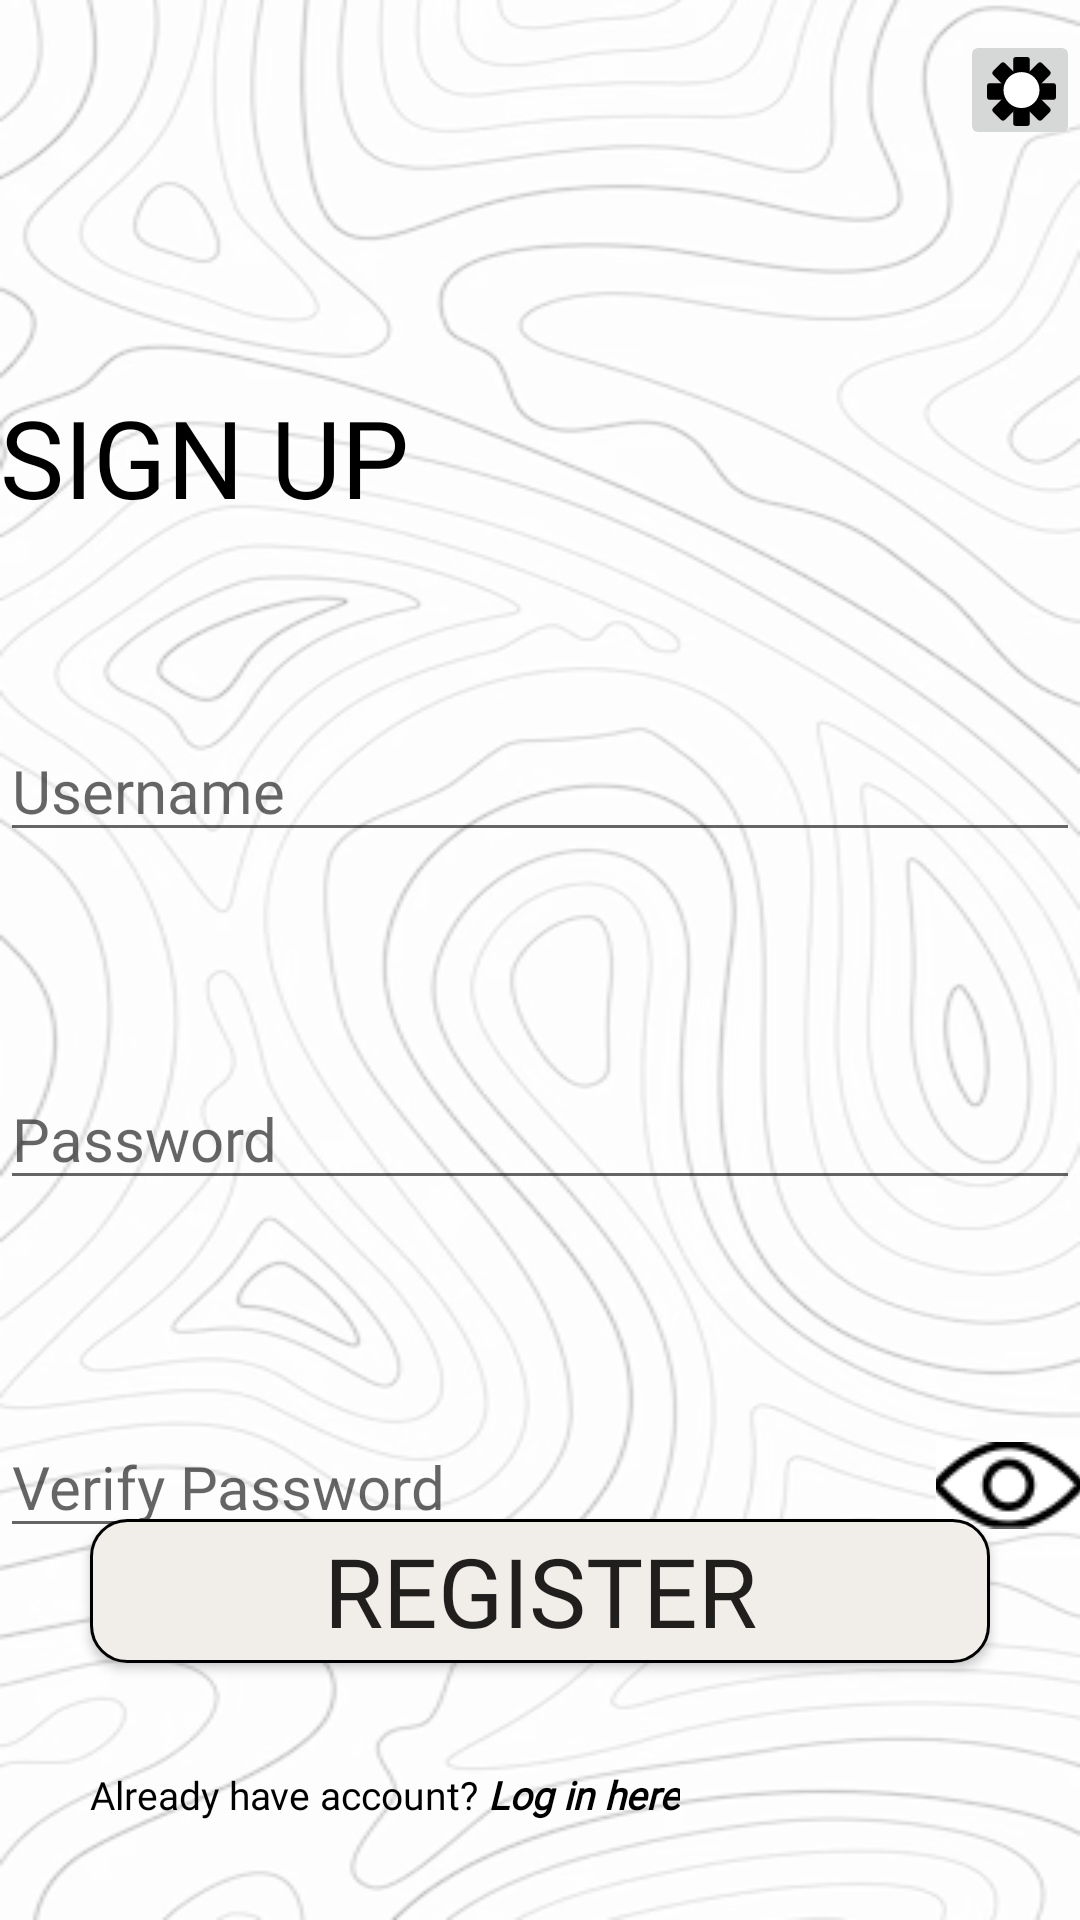

Where to tap for icons on this 1080*1920 app screen, as point (x, y):
setting-button: point (1026, 98)
show-button: point (1008, 1486)
